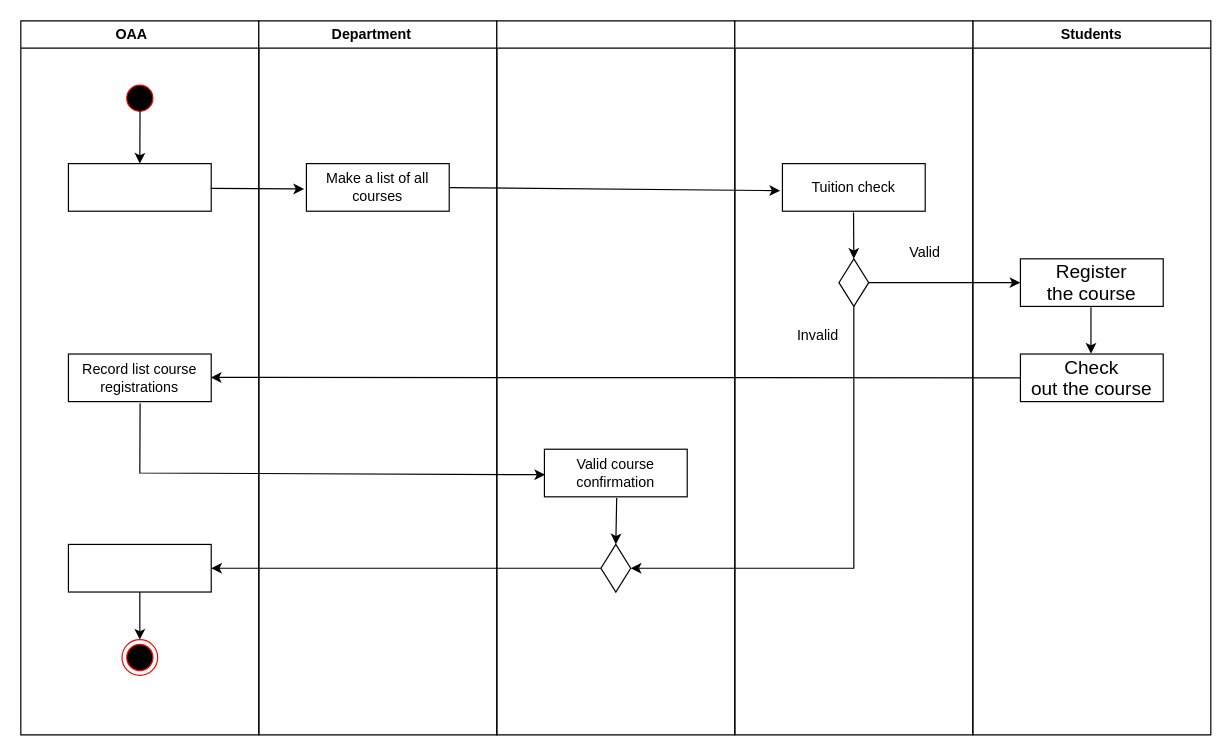
The diagram is 1232 pixels wide and 756 high, and some of its shapes have lost their labels. The box of each missing label's shape, as (x1, y1, x2, y2) in pixels:
Advisor: (496, 20, 735, 735)
OFD: (734, 20, 973, 735)
Registration organization: (67, 162, 211, 211)
Update on Edusoft: (67, 543, 211, 592)
